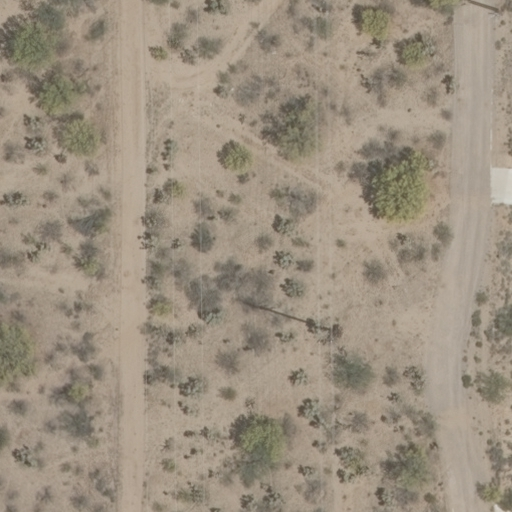DT: (307, 323, 341, 349)
